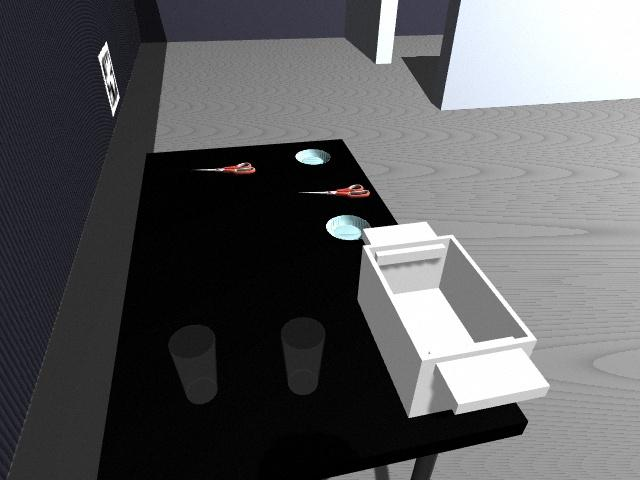cup: (168, 325, 217, 403), (281, 317, 325, 394)
plate: (325, 214, 371, 240), (294, 148, 332, 166)
scissors: (296, 183, 373, 199), (193, 162, 257, 175)
